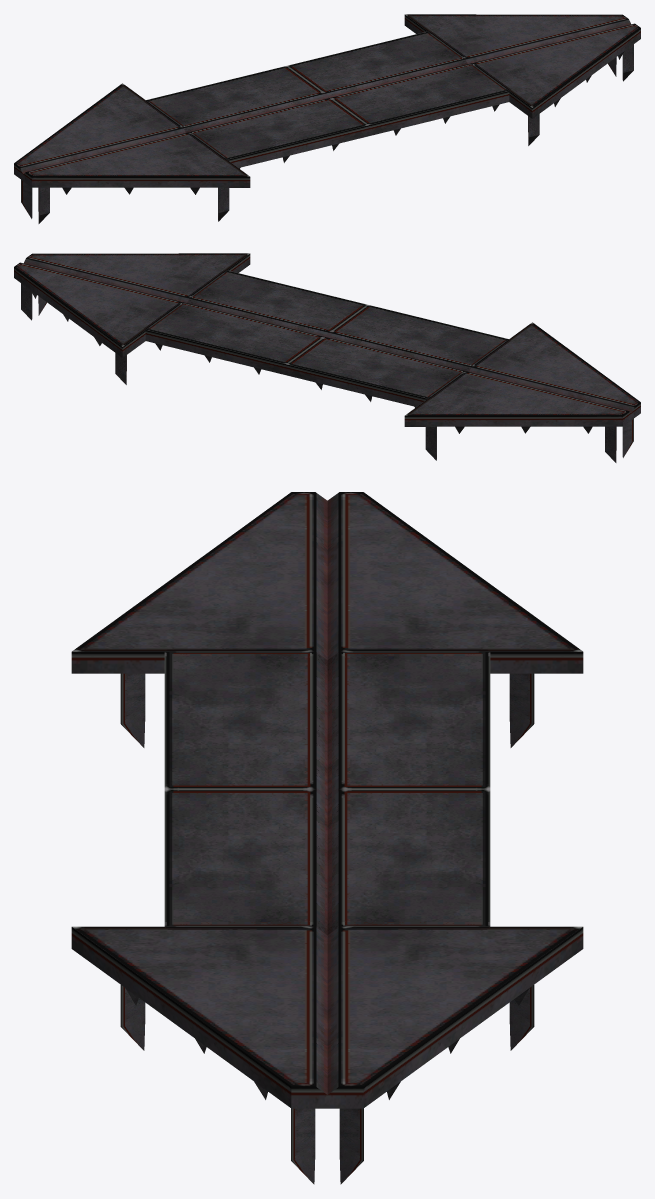
File: frn_jedi_dark_table_l1.fbx
The picture shows the model from 3 angles, top to bottom: view 1: azimuth 30°, elevation 25°; view 2: azimuth 150°, elevation 25°; view 3: azimuth 270°, elevation 25°; orthographic projection. The views are drawn at different scales.
Parts seen in each view (by area): view 1: mesh_node; view 2: mesh_node; view 3: mesh_node.
Part boxes in pixels (<box>): mesh_node: <box>14,14,640,223</box>; mesh_node: <box>14,253,640,462</box>; mesh_node: <box>71,492,583,1184</box>.
Size of the model in its own units: 8.64 by 0.75 by 3.14.
1 material, 1 textured.
